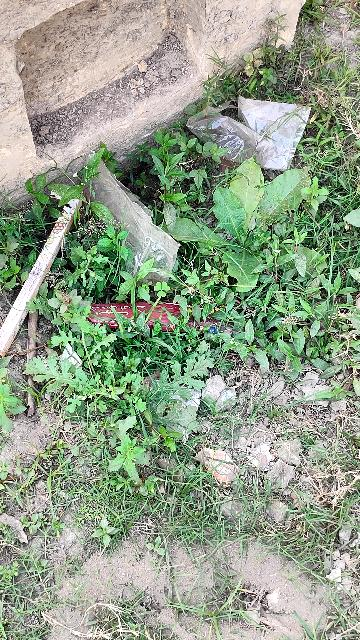polythene: (185, 93, 277, 167)
